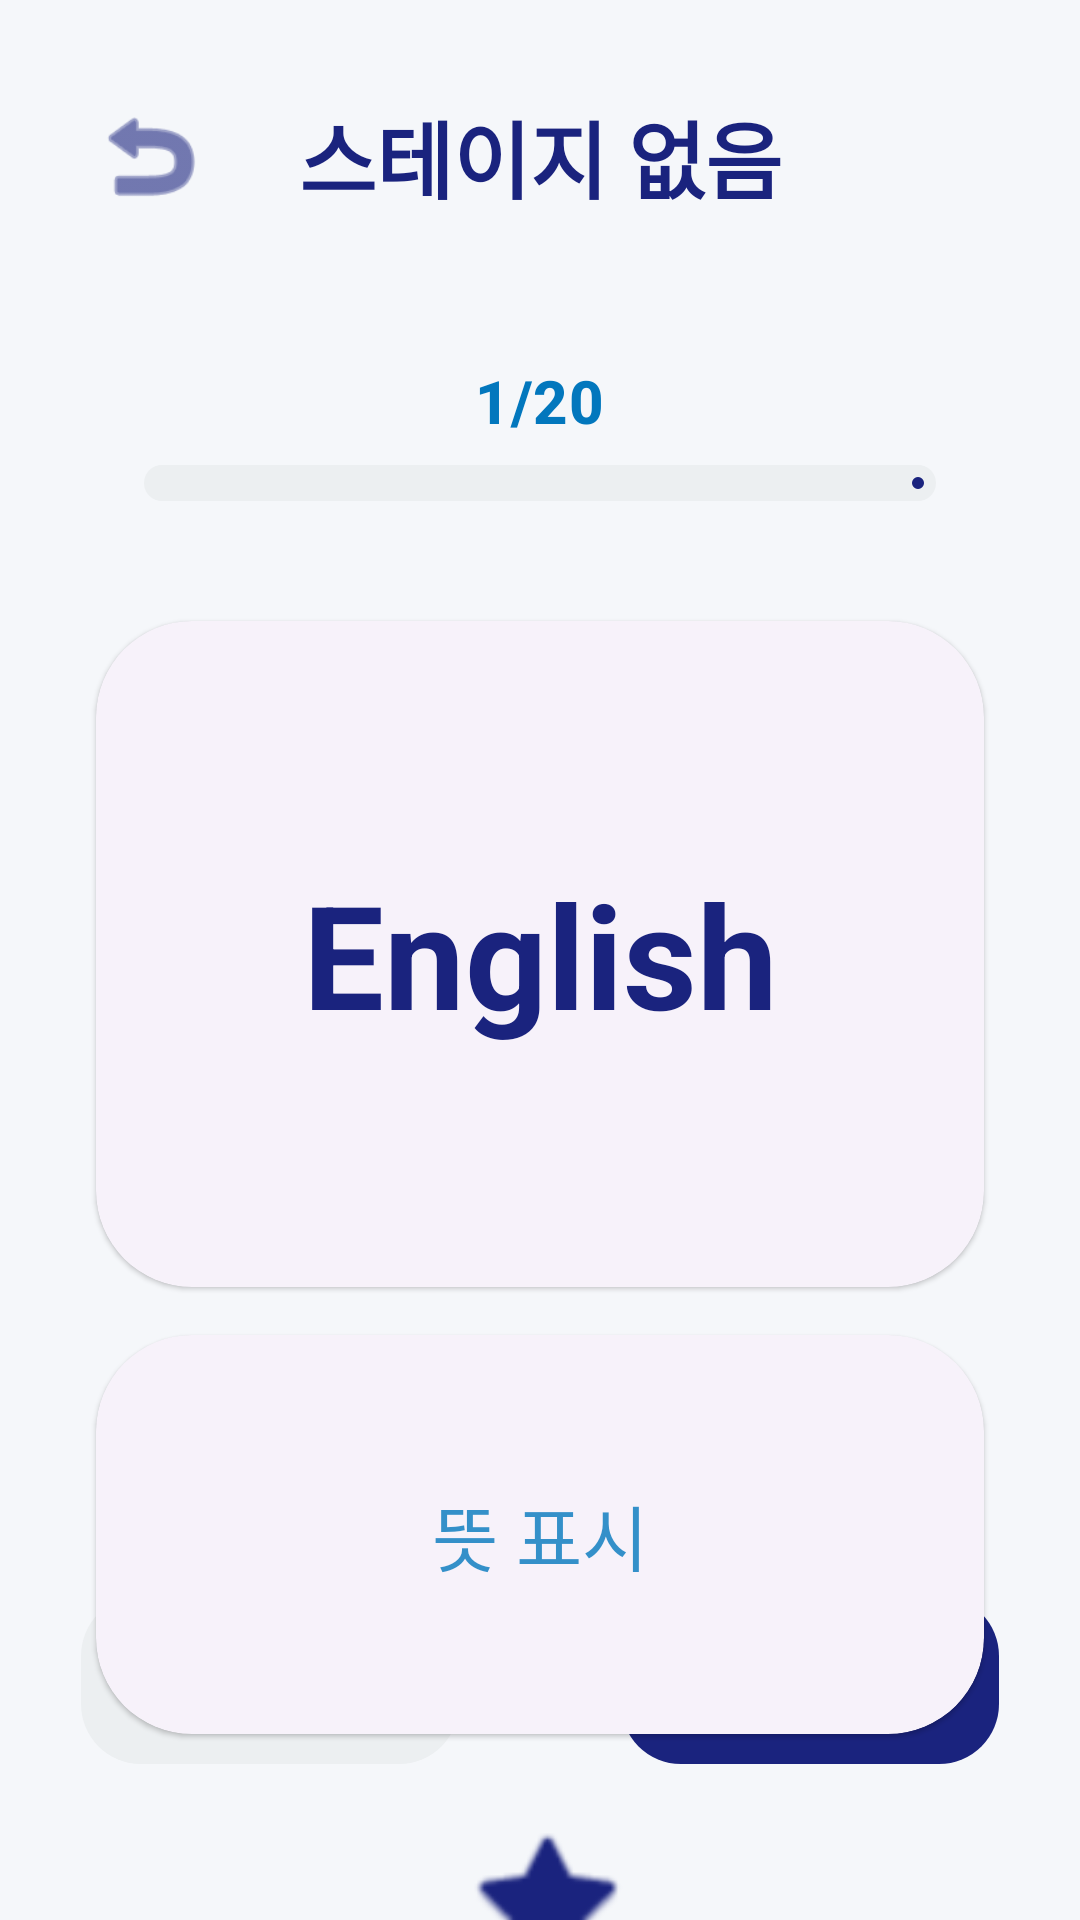

Where to tap for icons on this 1080x1920 app screen, as point (x, y):
revert: point (151, 157)
